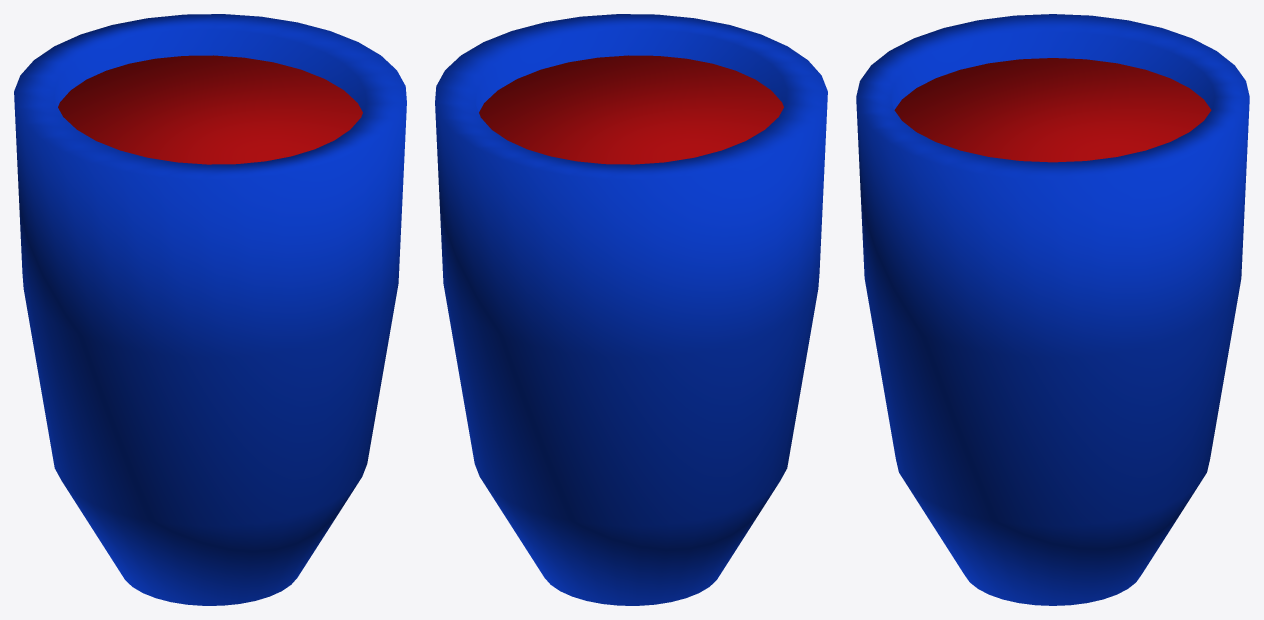
The model's file is bar_glass_with_water.obj.
The picture shows the model from 3 angles, left to right: view 1: azimuth 30°, elevation 25°; view 2: azimuth 150°, elevation 25°; view 3: azimuth 270°, elevation 25°; orthographic projection.
Parts seen in each view (by area): view 1: bar_glass, bar_glass_filling_water; view 2: bar_glass, bar_glass_filling_water; view 3: bar_glass, bar_glass_filling_water.
Boxes of the visible parts, left/top/right/bottom form: bar_glass: left=14, top=14, right=406, bottom=605; bar_glass_filling_water: left=58, top=55, right=362, bottom=164; bar_glass: left=435, top=14, right=827, bottom=605; bar_glass_filling_water: left=479, top=55, right=783, bottom=164; bar_glass: left=856, top=14, right=1249, bottom=605; bar_glass_filling_water: left=894, top=58, right=1211, bottom=162.
Size of the model in its own units: 0.1444 by 0.1906 by 0.1444.
